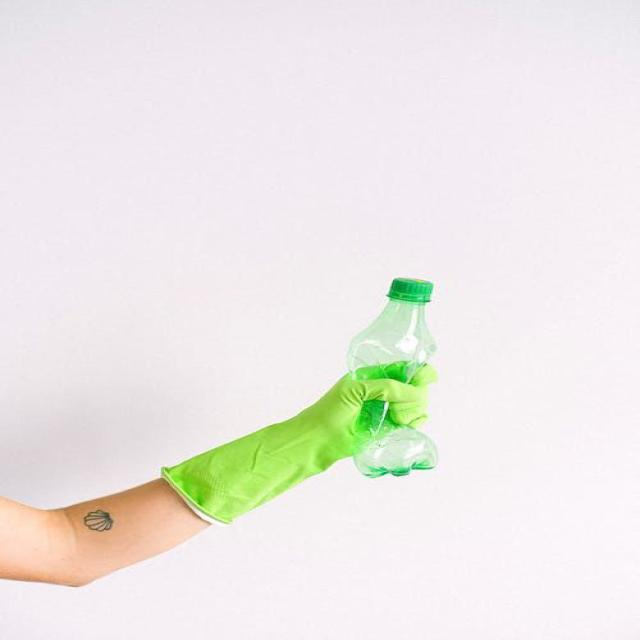plastic: (336, 271, 454, 477)
